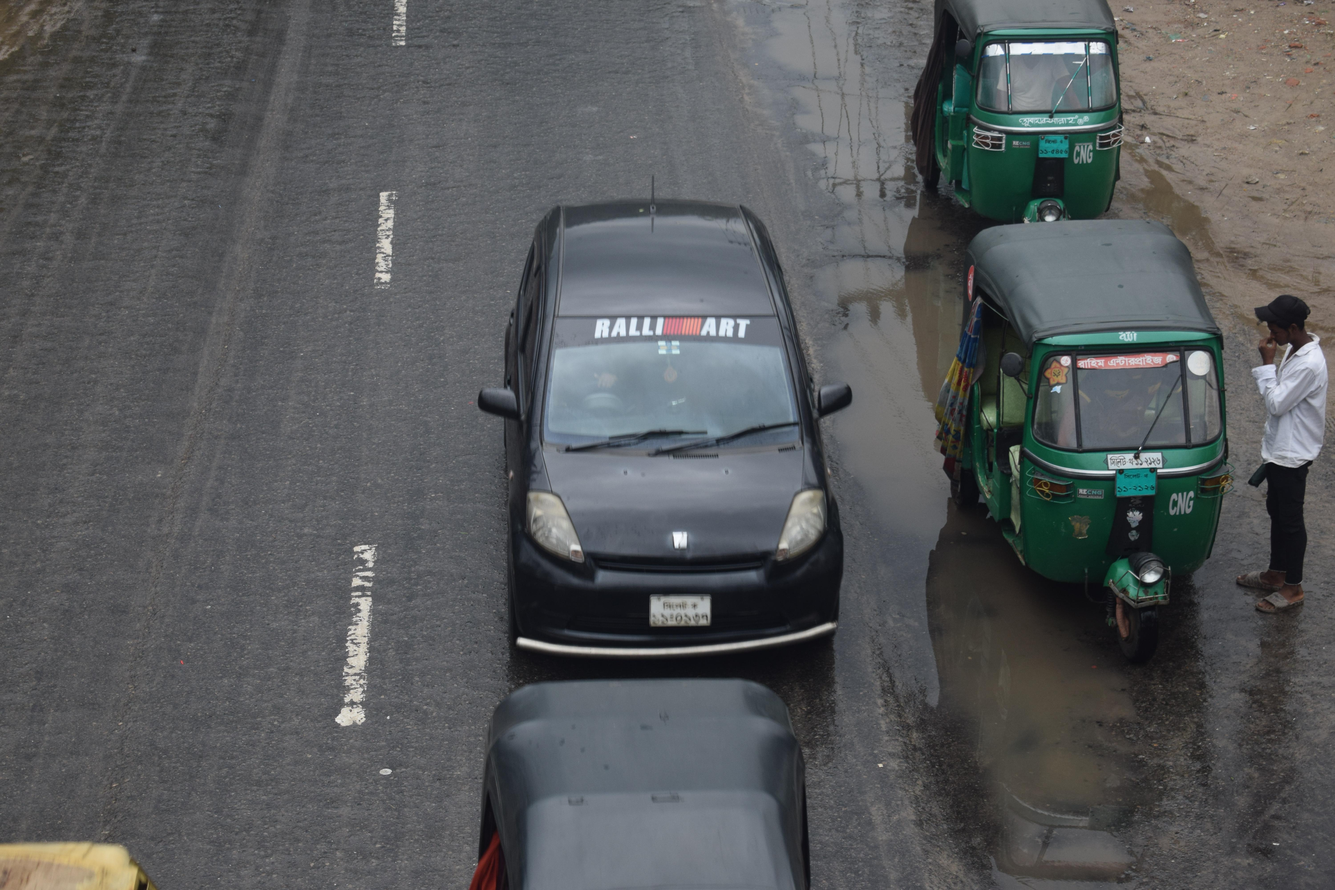Car: (405, 139, 907, 698)
